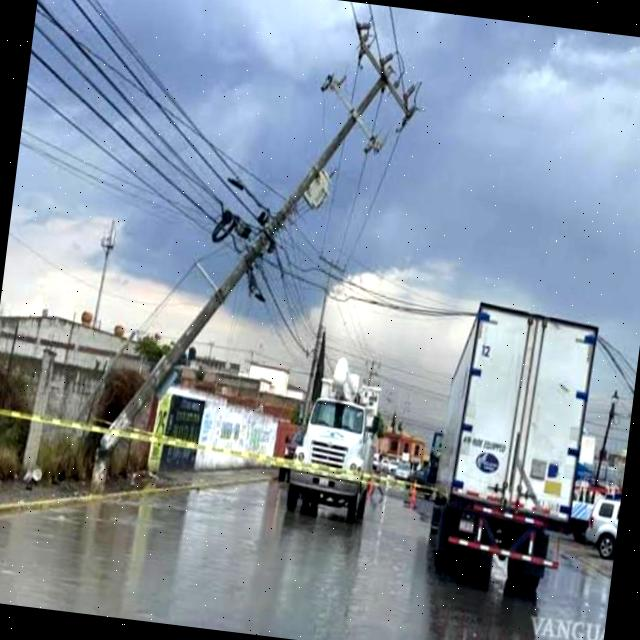Broken Pole: (91, 19, 432, 483)
